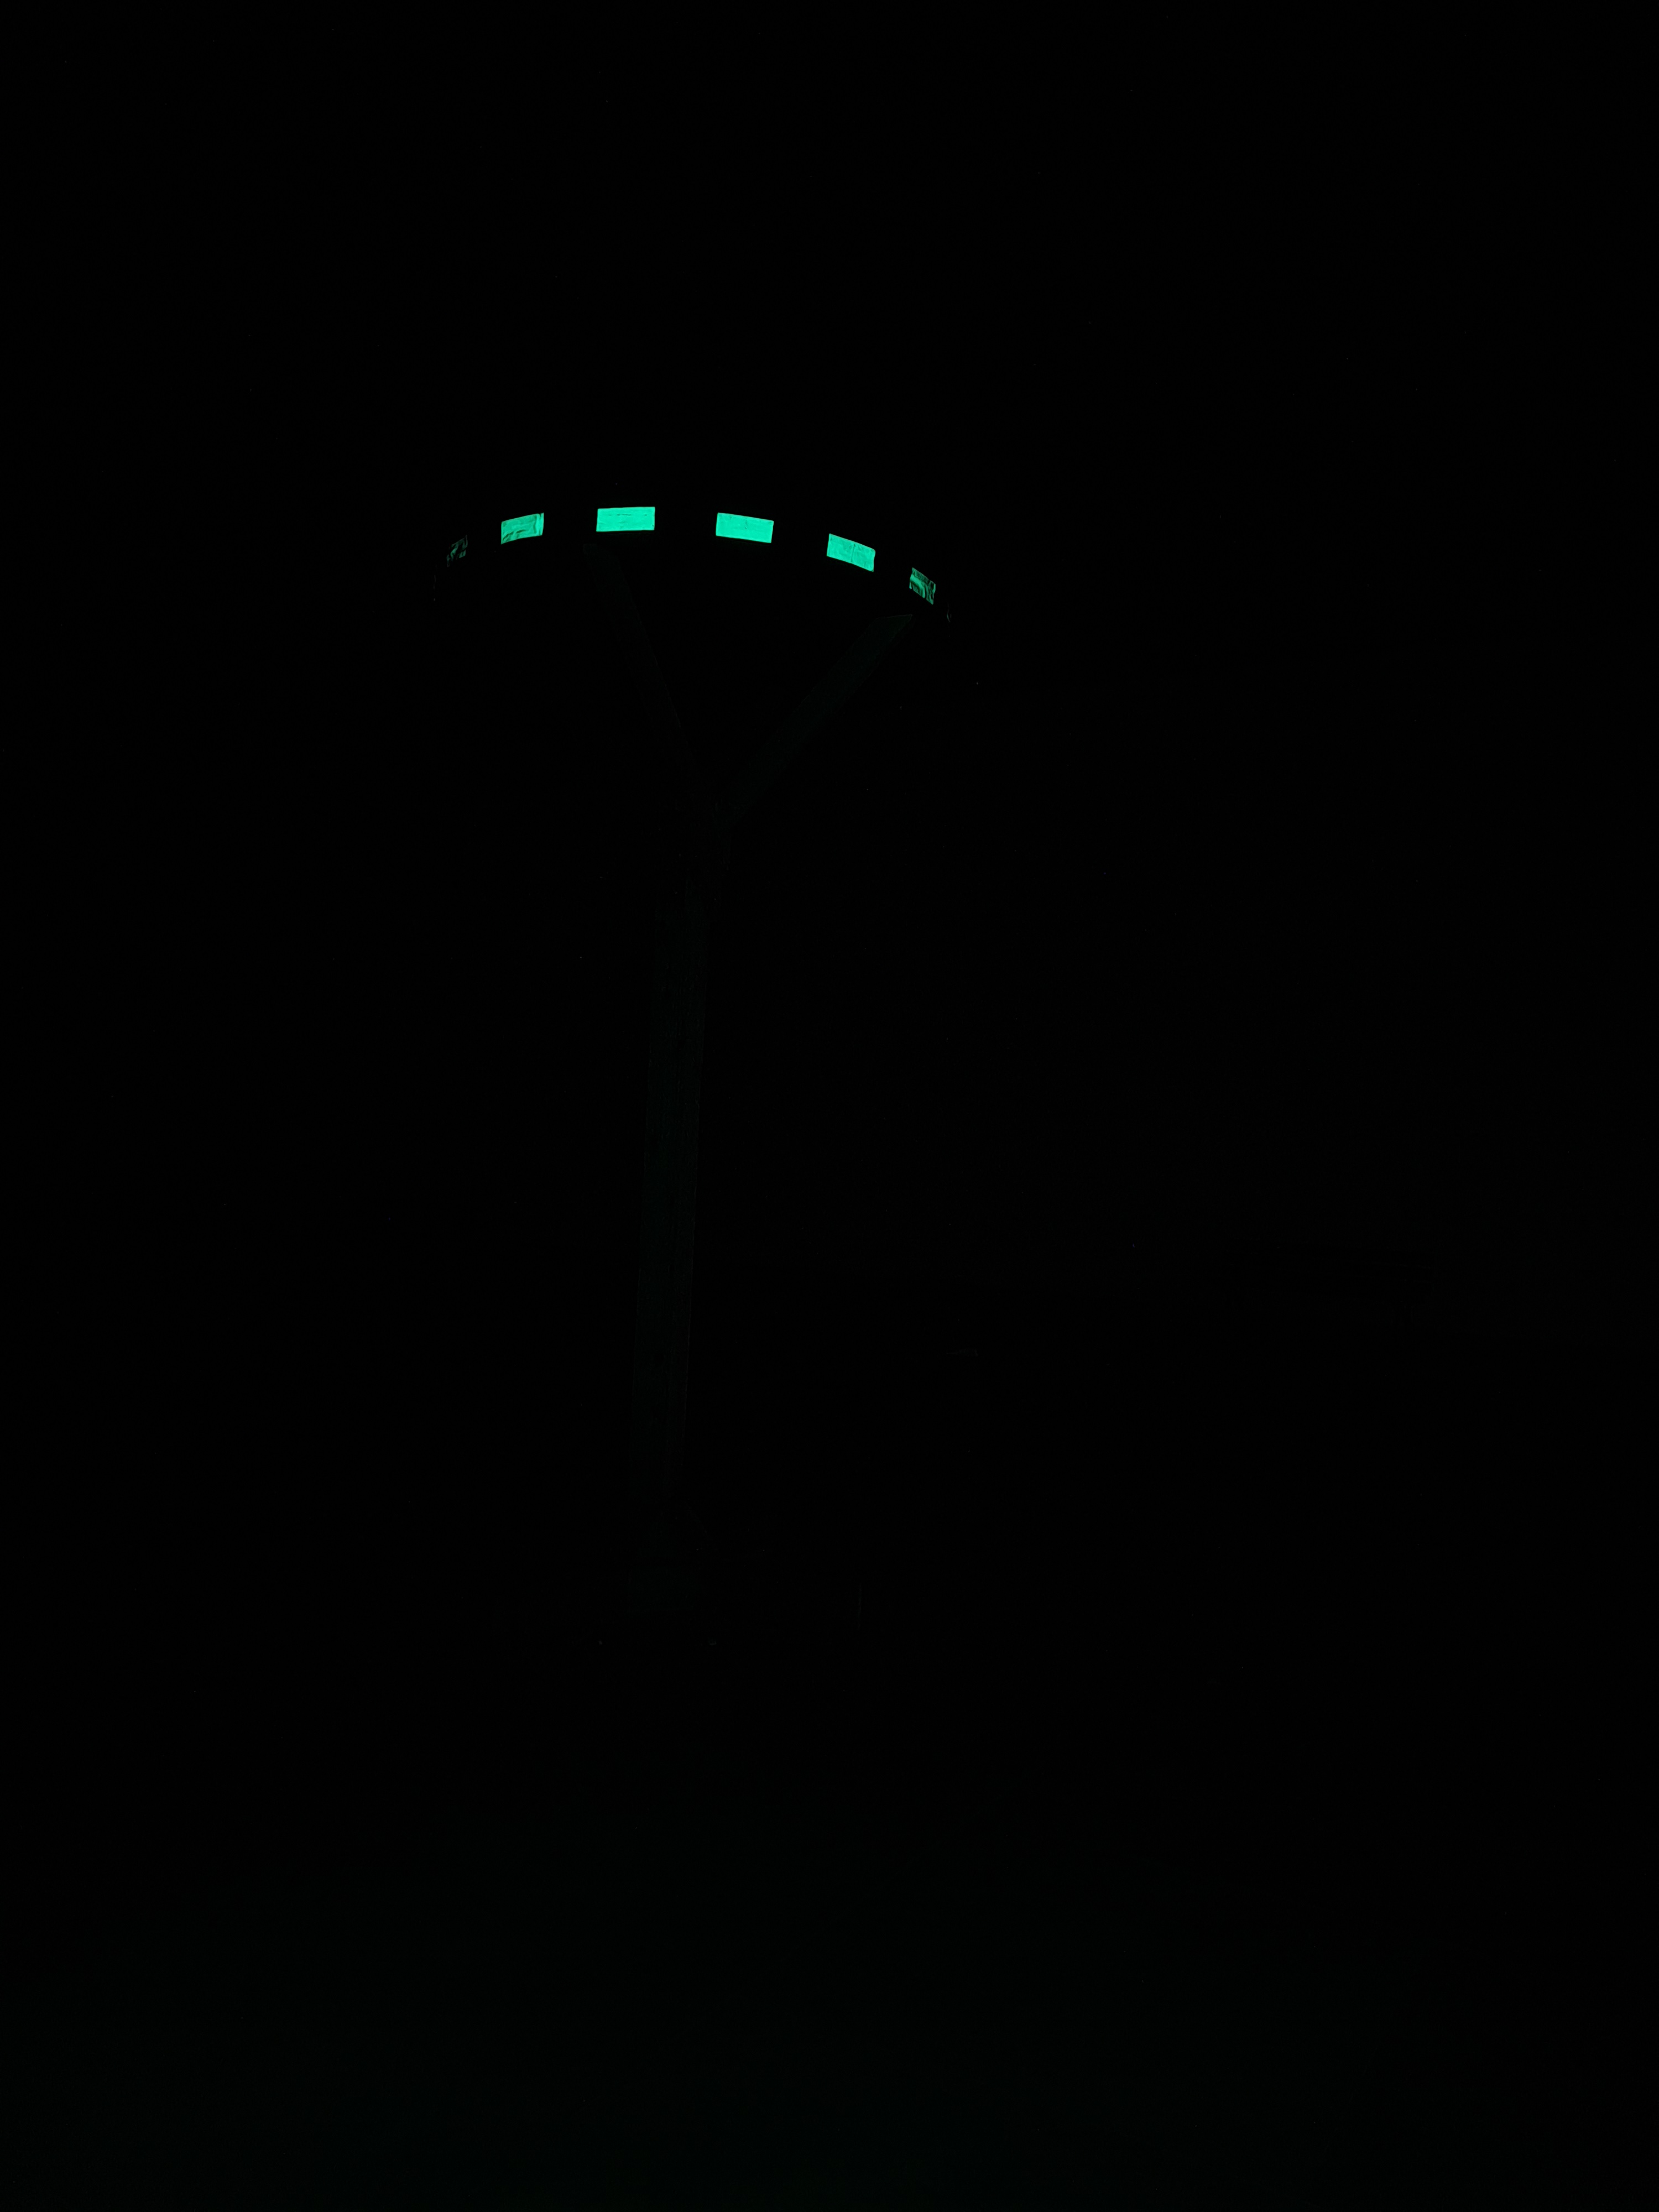hoop: (423, 488, 972, 646)
